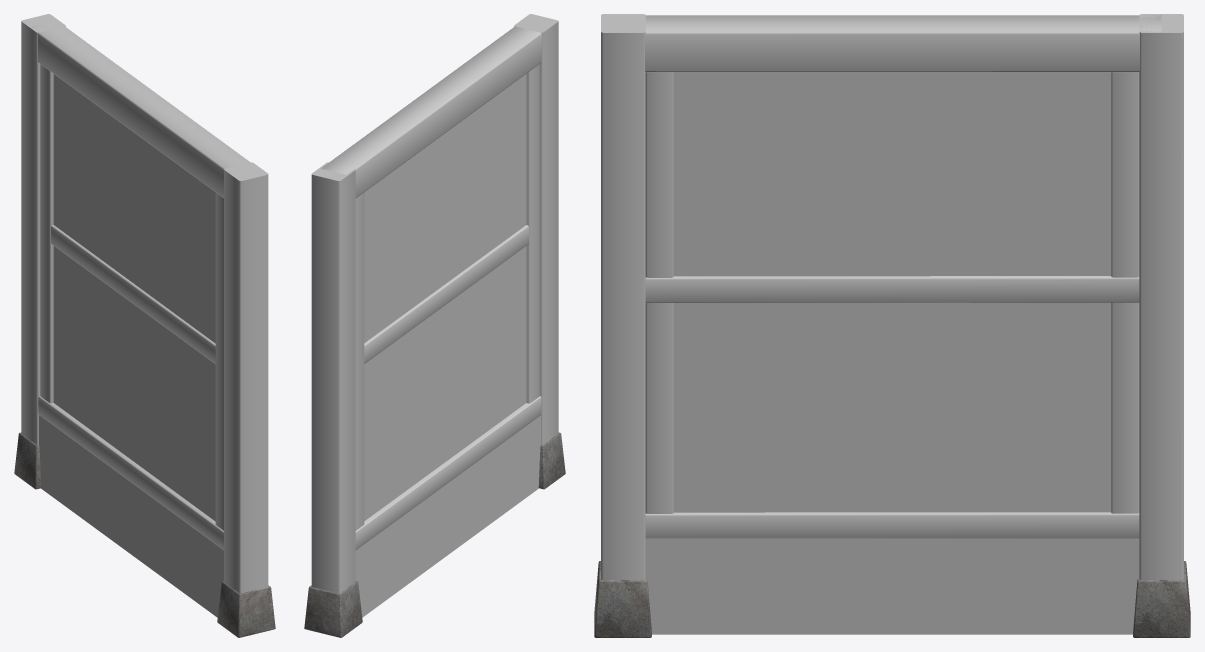
File: SM_Building_Wall_24.FBX
3 views of the same model, side by side, from view 1: azimuth 30°, elevation 25°; view 2: azimuth 150°, elevation 25°; view 3: azimuth 270°, elevation 25° (orthographic). The views are drawn at different scales.
Parts seen in each view (by area): view 1: SM_Building_Wall_24; view 2: SM_Building_Wall_24; view 3: SM_Building_Wall_24.
Boxes of the visible parts, bbox=[...] form: SM_Building_Wall_24: bbox=[14, 14, 275, 637]; SM_Building_Wall_24: bbox=[304, 14, 565, 637]; SM_Building_Wall_24: bbox=[594, 14, 1190, 637].
Size of the model in its own units: 50.53 by 582 by 522.
